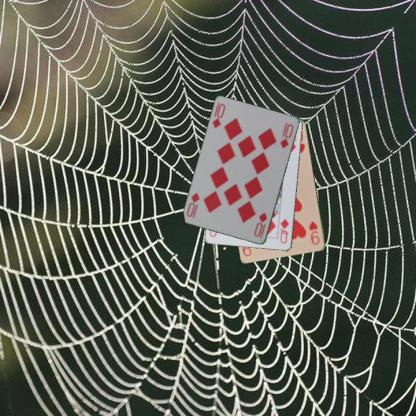10d: (251, 210, 269, 240), (210, 100, 226, 129)
9h: (306, 219, 321, 246)
Qd: (278, 216, 290, 244)
